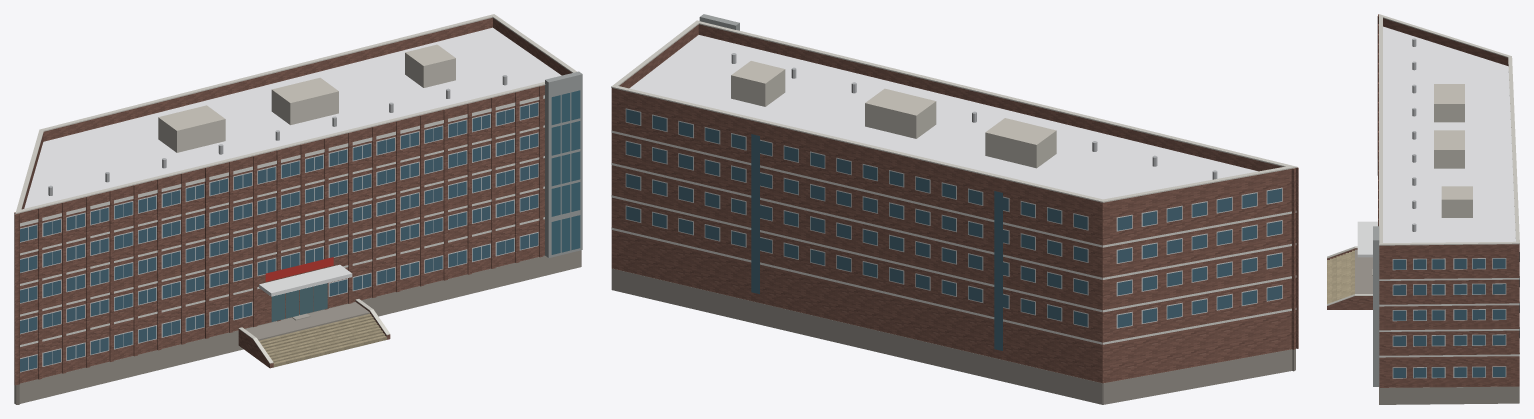
The picture shows the model from 3 angles, left to right: view 1: azimuth 30°, elevation 25°; view 2: azimuth 150°, elevation 25°; view 3: azimuth 270°, elevation 25°; orthographic projection. The views are drawn at different scales.
Visible parts, largest first — view 1: w451575566__brick-wall, w451575566__glass, w451575566__roof, w451575566__frame, w451575566__foundation-wall, w451575566__box-wall, w451575566__band-wall, w451575566__coping-stone, w451575566__tower-glass, w451575566__granite-stone, w451575566__tower-frame, w451575566__door-glass (+2 smaller); view 2: w451575566__brick-wall, w451575566__roof, w451575566__glass, w451575566__foundation-wall, w451575566__frame, w451575566__band-wall, w451575566__box-wall, w451575566__coping-stone; view 3: w451575566__roof, w451575566__brick-wall, w451575566__glass, w451575566__box-wall, w451575566__foundation-wall, w451575566__coping-stone, w451575566__frame, w451575566__band-wall, w451575566__granite-stone, w451575566__tower-frame, w451575566__canopy-white, w451575566__vent.
Part boxes in pixels (<box>): w451575566__brick-wall: <box>14,18,571,385</box>; w451575566__glass: <box>20,103,538,371</box>; w451575566__roof: <box>24,27,561,208</box>; w451575566__frame: <box>20,102,538,372</box>; w451575566__foundation-wall: <box>14,250,581,404</box>; w451575566__box-wall: <box>158,44,455,152</box>; w451575566__band-wall: <box>20,95,544,346</box>; w451575566__coping-stone: <box>15,14,576,363</box>; w451575566__tower-glass: <box>551,90,580,254</box>; w451575566__granite-stone: <box>259,313,386,367</box>; w451575566__tower-frame: <box>545,71,582,257</box>; w451575566__door-glass: <box>271,283,327,321</box>; w451575566__brick-wall: <box>611,24,1298,383</box>; w451575566__roof: <box>629,35,1257,199</box>; w451575566__glass: <box>626,109,1281,350</box>; w451575566__foundation-wall: <box>611,268,1295,404</box>; w451575566__frame: <box>625,108,1282,328</box>; w451575566__band-wall: <box>611,130,1296,344</box>; w451575566__box-wall: <box>731,61,1056,168</box>; w451575566__coping-stone: <box>611,20,1297,202</box>; w451575566__roof: <box>1383,26,1515,242</box>; w451575566__brick-wall: <box>1327,14,1519,387</box>; w451575566__glass: <box>1393,252,1519,377</box>; w451575566__box-wall: <box>1434,84,1472,217</box>; w451575566__foundation-wall: <box>1355,159,1519,404</box>; w451575566__coping-stone: <box>1327,14,1519,305</box>; w451575566__frame: <box>1392,258,1506,378</box>; w451575566__band-wall: <box>1379,276,1519,357</box>; w451575566__granite-stone: <box>1327,250,1354,303</box>; w451575566__tower-frame: <box>1373,226,1379,386</box>; w451575566__canopy-white: <box>1357,221,1377,257</box>; w451575566__vent: <box>1412,38,1416,231</box>.
Size of the model in its own units: 69.99 by 23.9 by 24.68.
17 materials, 2 textured.
